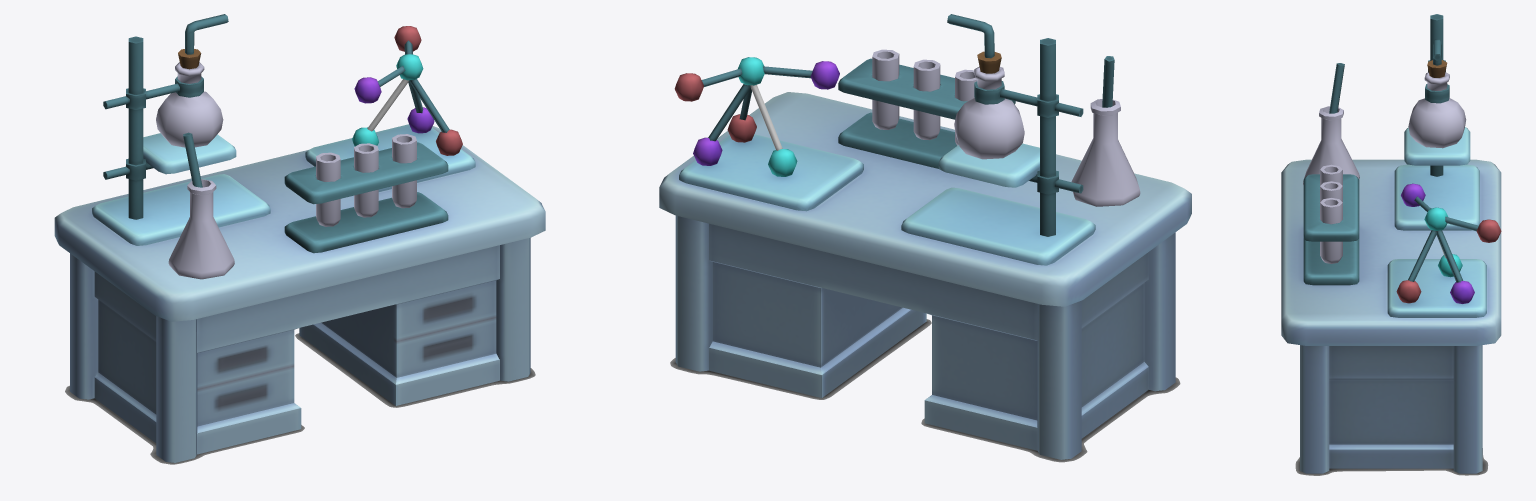
File: ScienceLab_Item_Lab.FBX
3 renders of one model, left to right at view 1: azimuth 30°, elevation 25°; view 2: azimuth 150°, elevation 25°; view 3: azimuth 270°, elevation 25°, orthographic. The views are drawn at different scales.
Visible parts, largest first — view 1: ScienceLab_Item_Lab, ScienceLab_Shadow_Lab; view 2: ScienceLab_Item_Lab, ScienceLab_Shadow_Lab; view 3: ScienceLab_Item_Lab, ScienceLab_Shadow_Lab.
Boxes of the visible parts, box(x1,y1,x2,y2) form: ScienceLab_Item_Lab: box(54, 14, 545, 462); ScienceLab_Shadow_Lab: box(65, 333, 535, 464); ScienceLab_Item_Lab: box(659, 14, 1191, 459); ScienceLab_Shadow_Lab: box(670, 319, 1180, 462); ScienceLab_Item_Lab: box(1281, 14, 1501, 473); ScienceLab_Shadow_Lab: box(1295, 448, 1488, 475).
Size of the model in its own units: 2.48 by 2 by 1.46.
